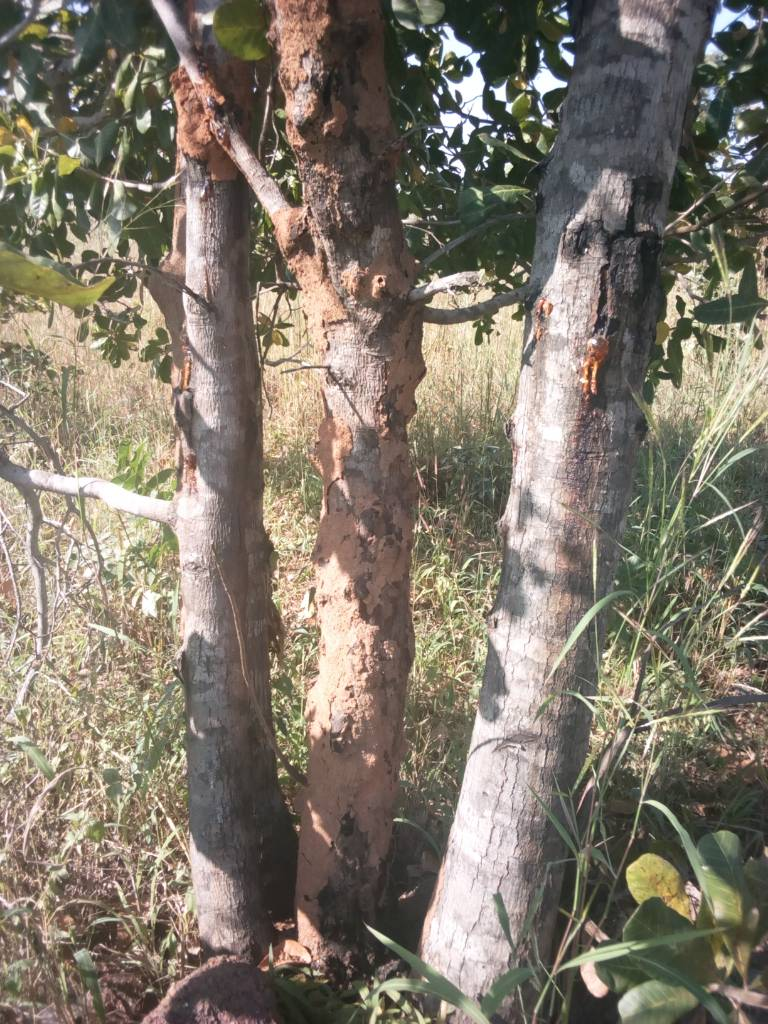Termites: (297, 411, 415, 935), (272, 7, 396, 203), (282, 216, 419, 325), (172, 53, 250, 182)
